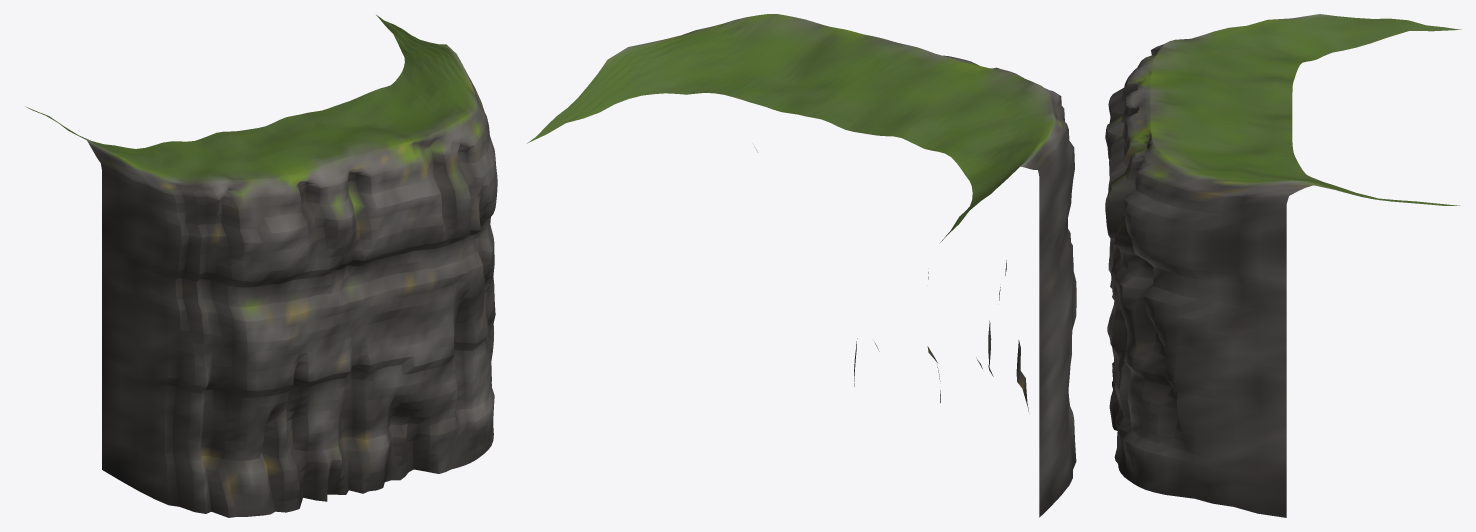
Rendered from cliff-face-b.lod0.glb.
The picture shows the model from 3 angles, left to right: view 1: azimuth 30°, elevation 25°; view 2: azimuth 150°, elevation 25°; view 3: azimuth 270°, elevation 25°; orthographic projection. The views are drawn at different scales.
Size of the model in its own units: 7.36 by 6.55 by 6.31.
